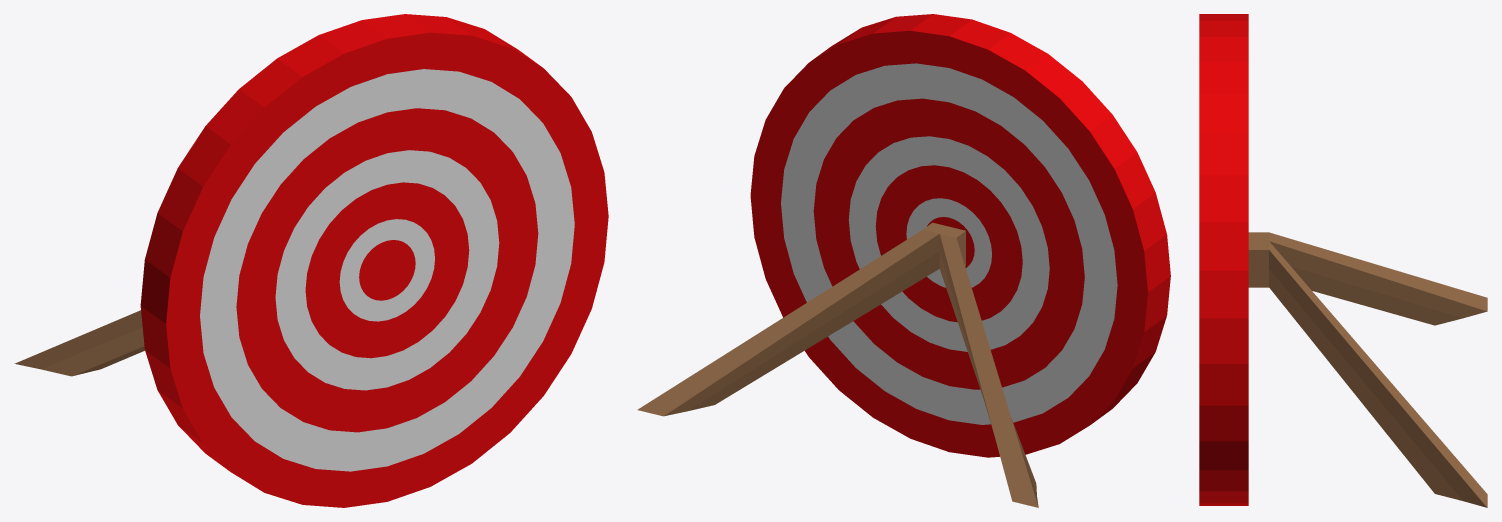
File: Target.fbx
3 renders of one model, left to right at view 1: azimuth 30°, elevation 25°; view 2: azimuth 150°, elevation 25°; view 3: azimuth 270°, elevation 25°, orthographic. The views are drawn at different scales.
Parts seen in each view (by area): view 1: Cylinder, Cube; view 2: Cylinder, Cube; view 3: Cylinder, Cube.
Boxes of the visible parts, x1=… form: Cylinder: x1=140, y1=14, x2=608, y2=507; Cube: x1=14, y1=310, x2=144, y2=376; Cylinder: x1=750, y1=14, x2=1170, y2=457; Cube: x1=637, y1=222, x2=1038, y2=507; Cylinder: x1=1199, y1=14, x2=1248, y2=505; Cube: x1=1248, y1=232, x2=1487, y2=507.
Size of the model in its own units: 202 by 200 by 117.
